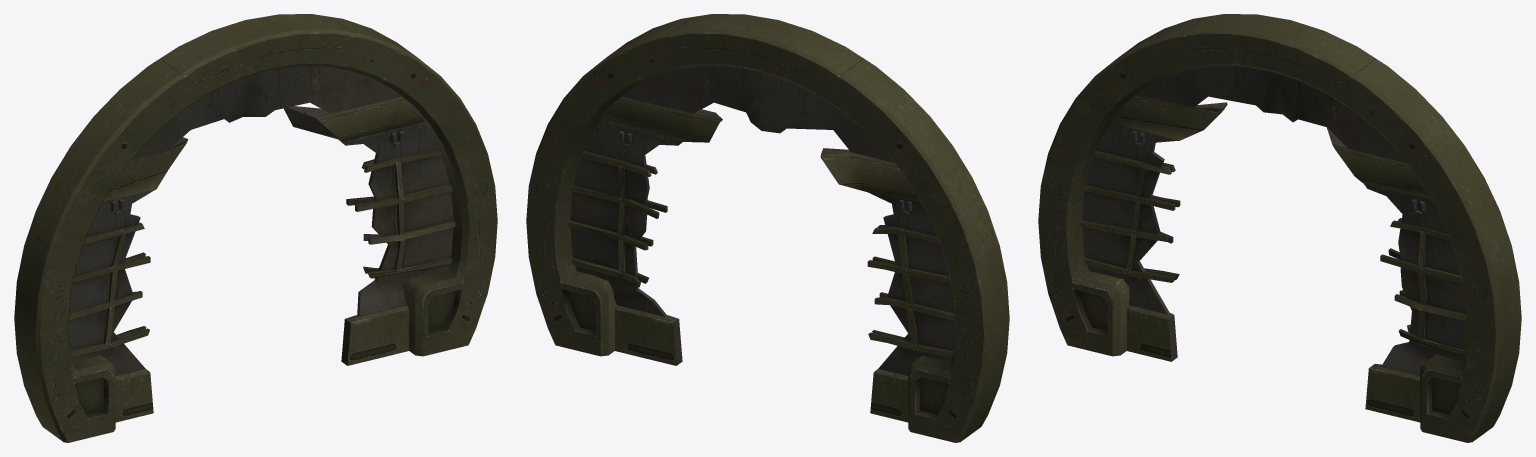
The model's file is slidedoor_data_tunnel_damaged_03.DAE.
The picture shows the model from 3 angles, left to right: view 1: azimuth 30°, elevation 25°; view 2: azimuth 150°, elevation 25°; view 3: azimuth 330°, elevation 25°; orthographic projection.
Visible parts, largest first — view 1: slidedoor_data_tunnel_damaged_03; view 2: slidedoor_data_tunnel_damaged_03; view 3: slidedoor_data_tunnel_damaged_03.
Boxes of the visible parts, x1=… form: slidedoor_data_tunnel_damaged_03: x1=14, y1=14, x2=497, y2=442; slidedoor_data_tunnel_damaged_03: x1=526, y1=14, x2=1009, y2=442; slidedoor_data_tunnel_damaged_03: x1=1038, y1=14, x2=1521, y2=442.
Bounding box in the file's own units: 15.89 × 1.56 × 11.74.
